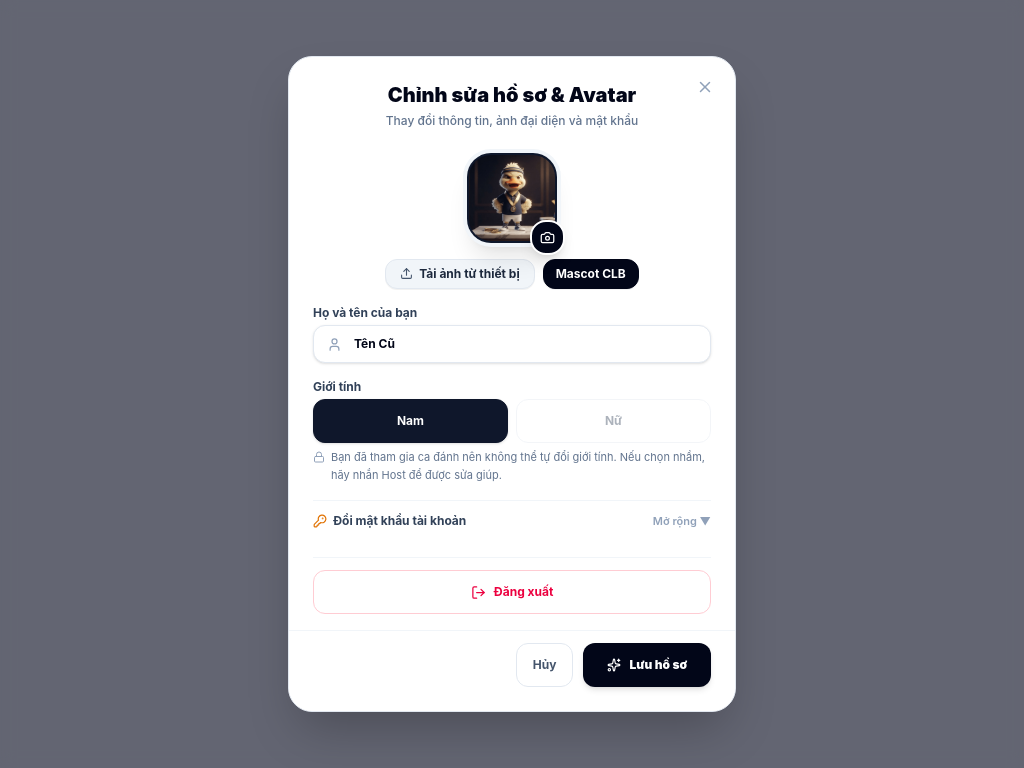
ProfileModal - mobile & token › ô mật khẩu có autocomplete đúng, nút ẩn/hiện có nhãn
This screenshot has width=1024, height=768.
Step 1. Click the button "Đổi mật khẩu tài khoản Mở rộng ▼" → [400, 521], box [313, 505, 711, 537]
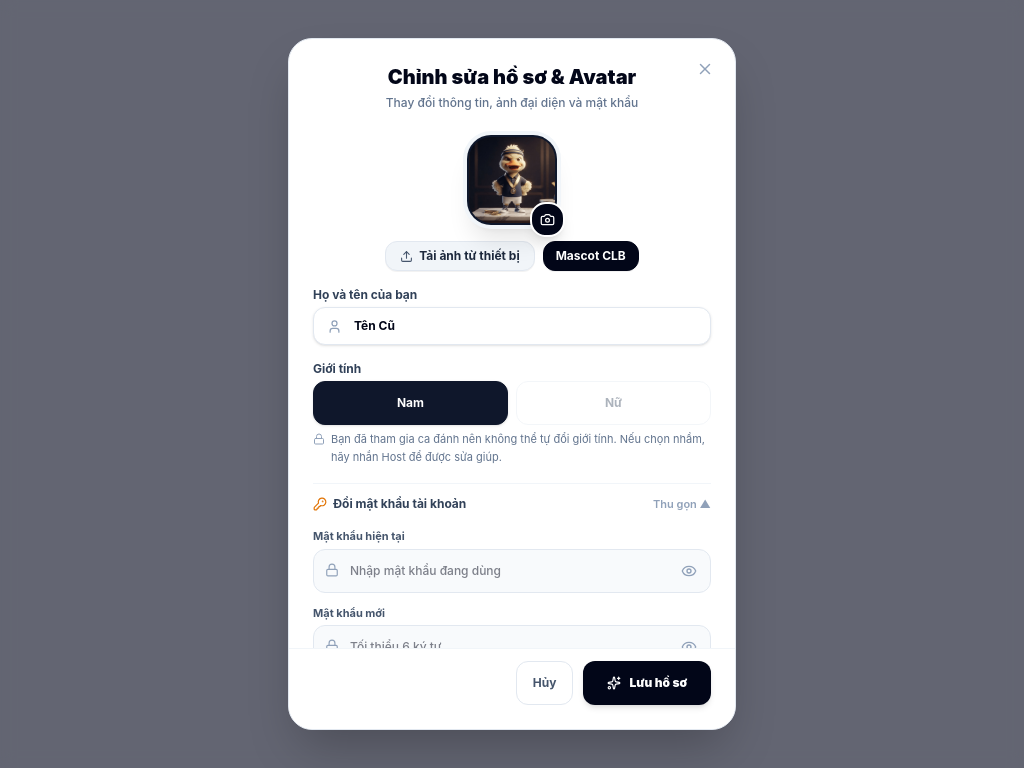
Step 2. Click the button named "Hiện mật khẩu hiện tại" → [689, 571], box [667, 549, 711, 593]
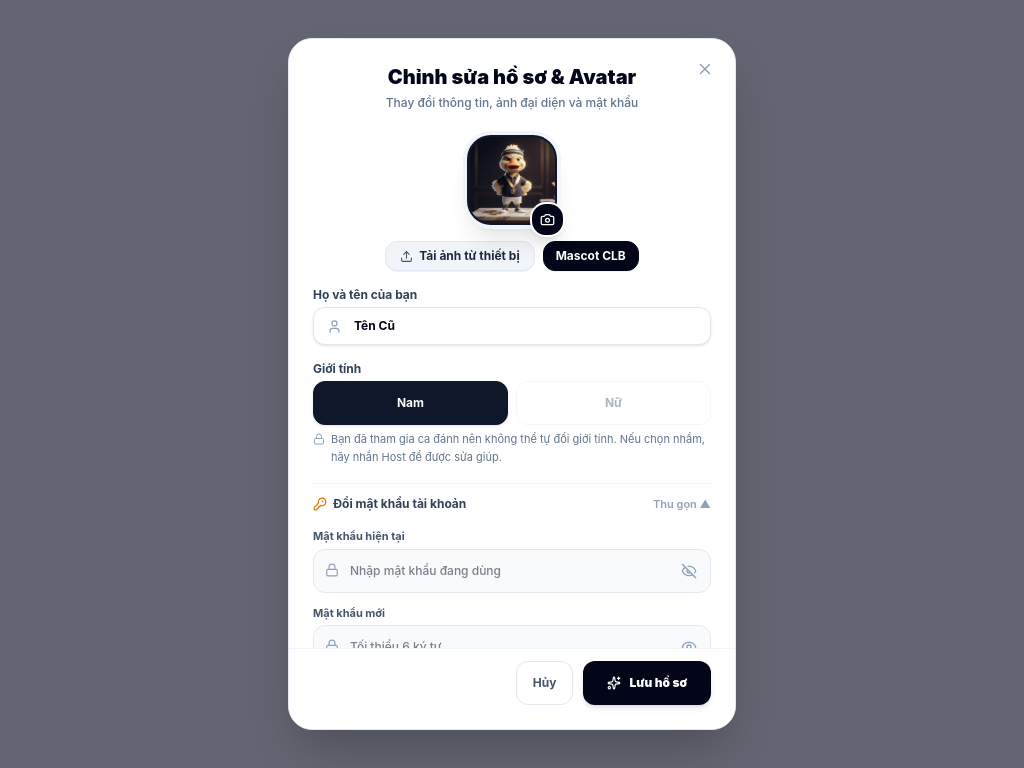
expect the button named "Ẩn mật khẩu hiện tại" is shown: met, box [667, 549, 711, 593]
